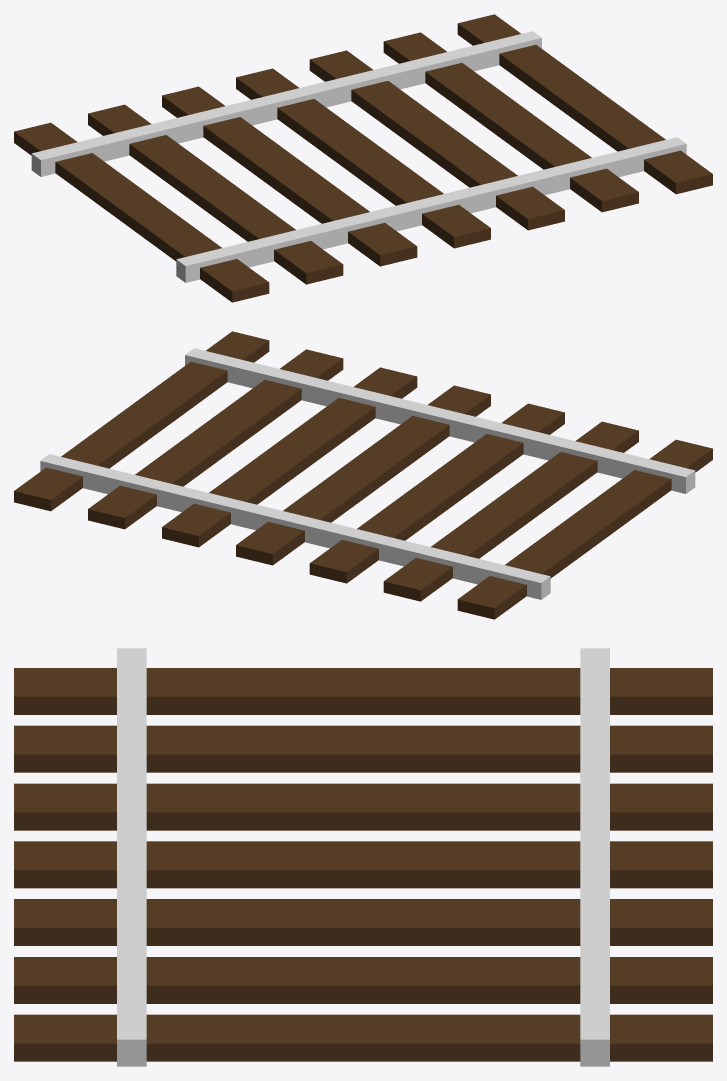
Rendered from tory.fbx.
3 renders of one model, top to bottom at view 1: azimuth 30°, elevation 25°; view 2: azimuth 150°, elevation 25°; view 3: azimuth 270°, elevation 25°, orthographic. The views are drawn at different scales.
Visible parts, largest first — view 1: Cube.029; view 2: Cube.029; view 3: Cube.029.
Part boxes in pixels (x1,y1,x2,y2): Cube.029: (14, 14, 712, 302); Cube.029: (14, 331, 712, 619); Cube.029: (14, 648, 712, 1066).
Bounding box in the file's own units: 600 × 19.3 × 453.
